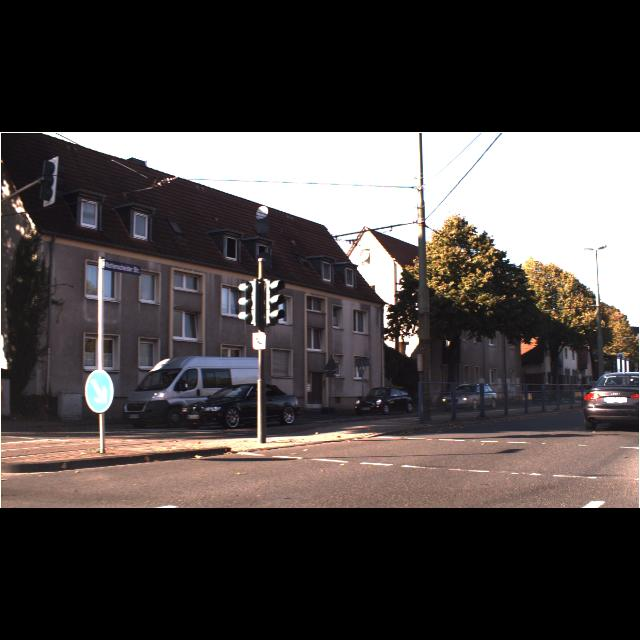mandatory: (84, 370, 112, 412)
